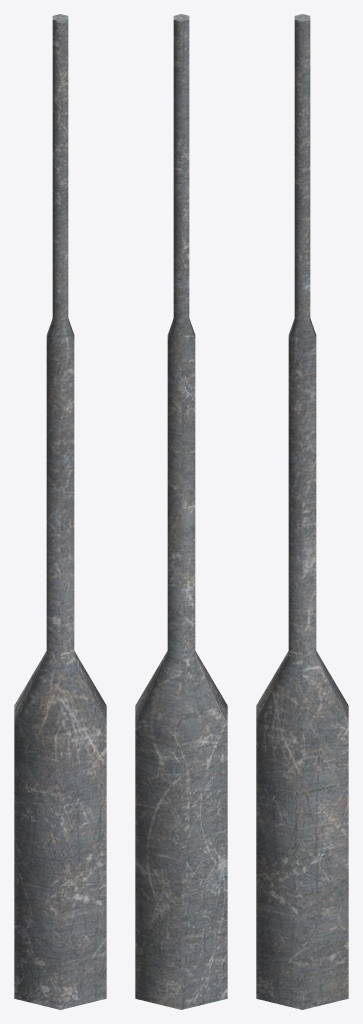
The model's file is iron rod.fbx.
The picture shows the model from 3 angles, left to right: view 1: azimuth 30°, elevation 25°; view 2: azimuth 210°, elevation 25°; view 3: azimuth 330°, elevation 25°; orthographic projection.
Parts seen in each view (by area): view 1: iron_rod; view 2: iron_rod; view 3: iron_rod.
Boxes of the visible parts, <box> form: iron_rod: <box>14,14,106,1009</box>; iron_rod: <box>135,14,227,1009</box>; iron_rod: <box>256,14,348,1009</box>.
Bounding box in the file's own units: 22.72 × 228 × 19.67.
Materials: 1 (1 with a texture image).
